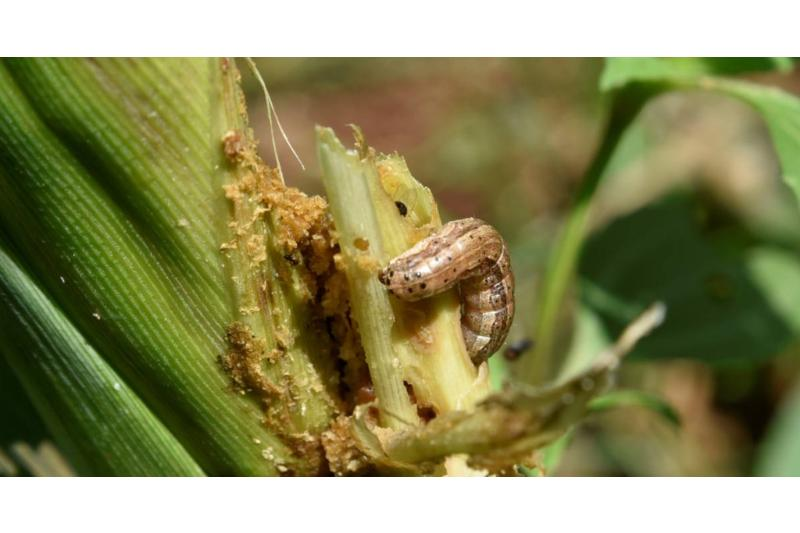fall-armyworm: (379, 218, 517, 369)
